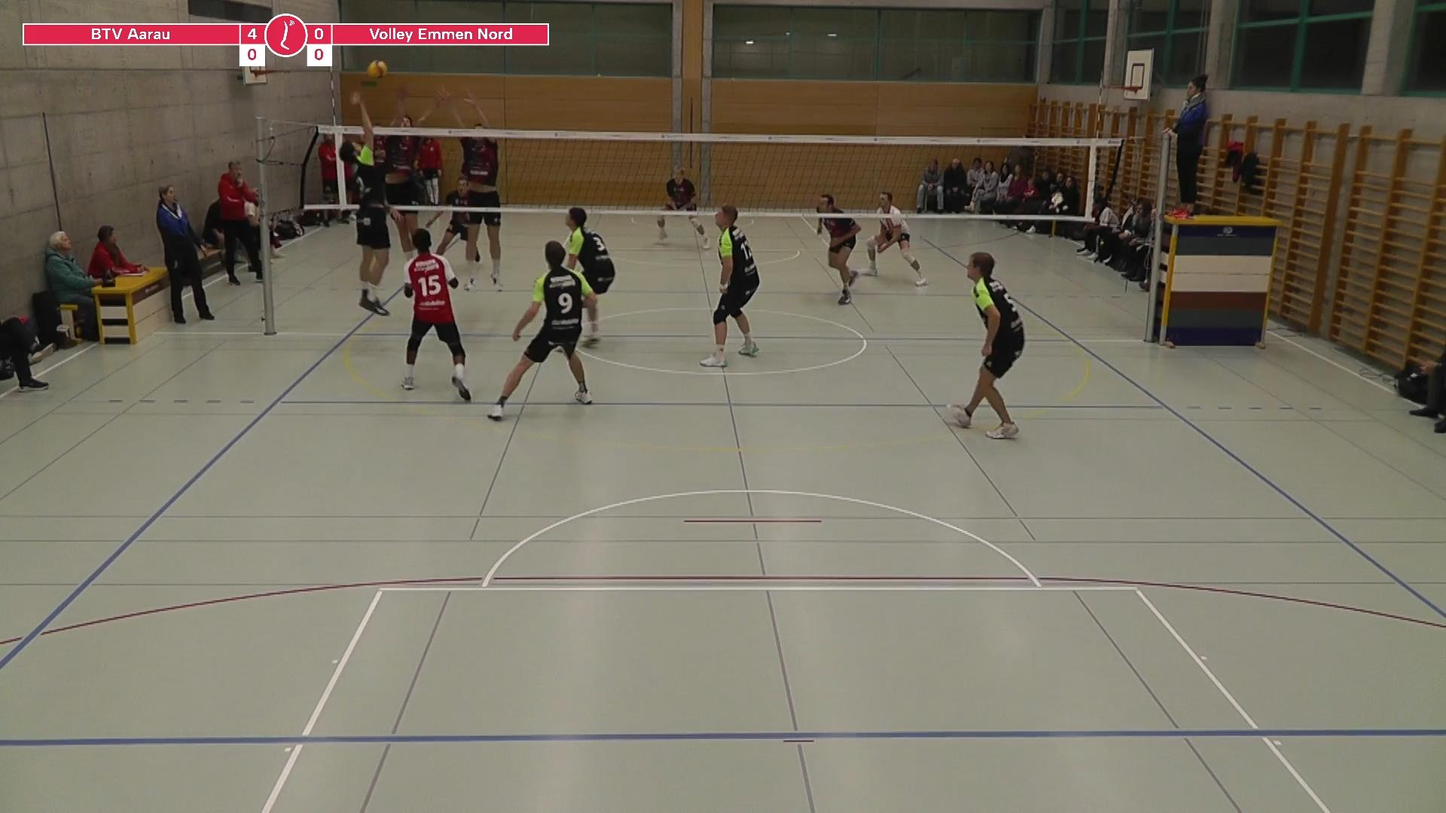Attack: (334, 95, 406, 314)
Block: (449, 86, 518, 297), (379, 92, 443, 234)
Player: (489, 241, 596, 420), (948, 252, 1024, 438), (402, 229, 470, 400), (700, 205, 759, 367), (862, 191, 926, 286), (817, 194, 860, 304), (565, 207, 615, 296), (436, 176, 470, 254), (665, 167, 697, 212)
ball: (359, 54, 388, 86)
